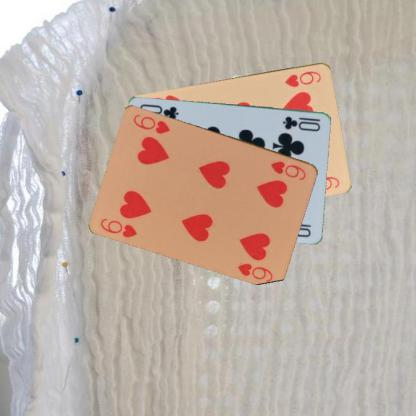10c: (280, 114, 322, 132)
6h: (98, 216, 139, 239), (268, 158, 307, 182), (282, 68, 322, 88)
